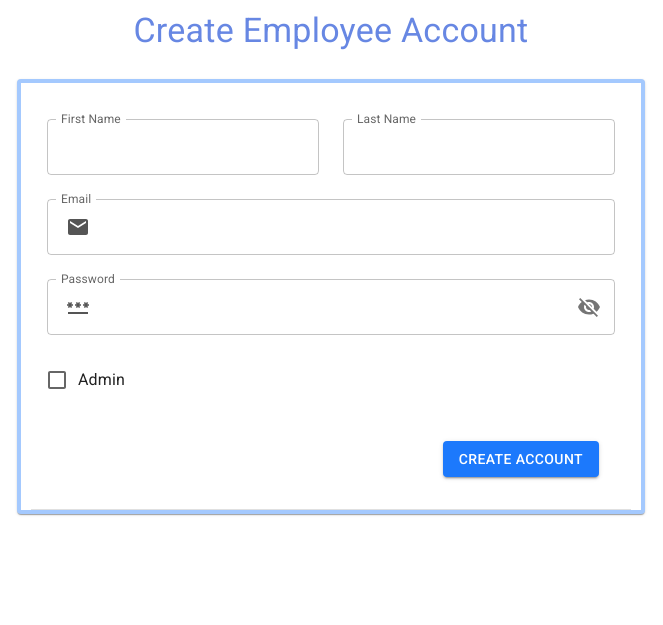
SignupForm › should show an error on stauts=400
This screenshot has width=663, height=625.
we type in the first name
Type "John" into the field labelled "First Name" at (188, 147), box 79,119 -> 297,175
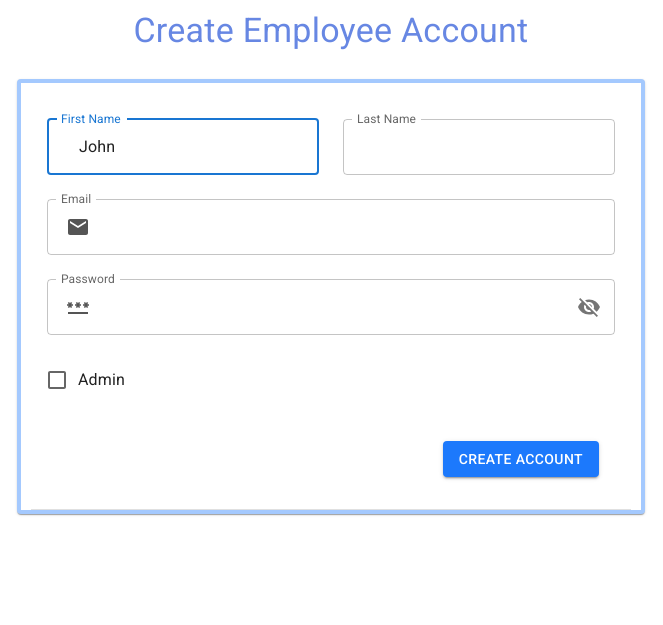
we type in the last name
Type "Doe" into the field labelled "Last Name" at (484, 147), box 375,119 -> 593,175
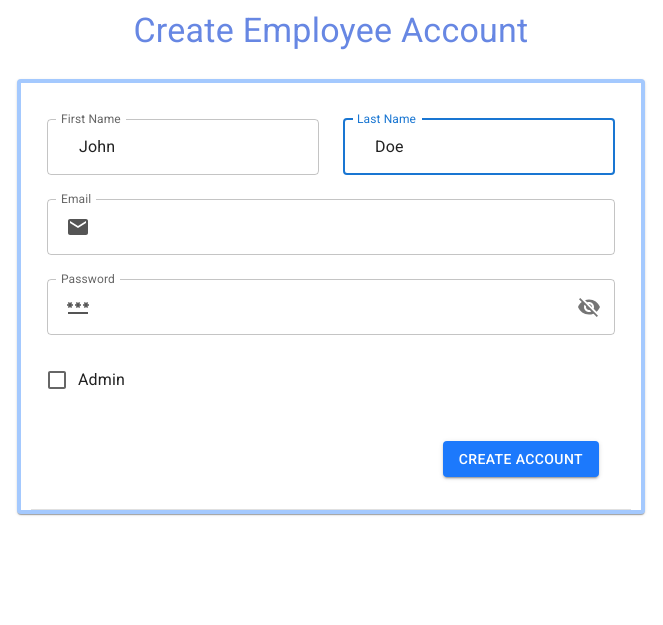
we type in the email
Type "john@doe.com" into the field labelled "Email" at (348, 227), box 103,199 -> 593,255
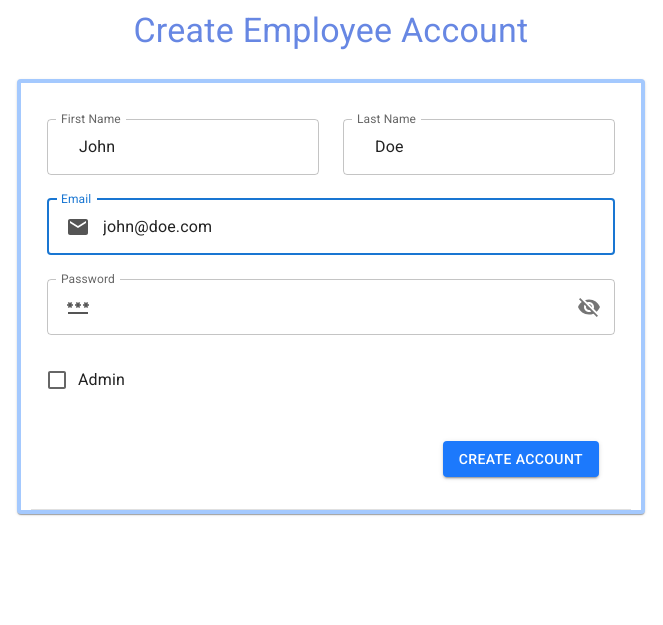
we type in the password
Type "not-john-doe" into the password field labelled "Password" at (336, 307), box 103,279 -> 569,335
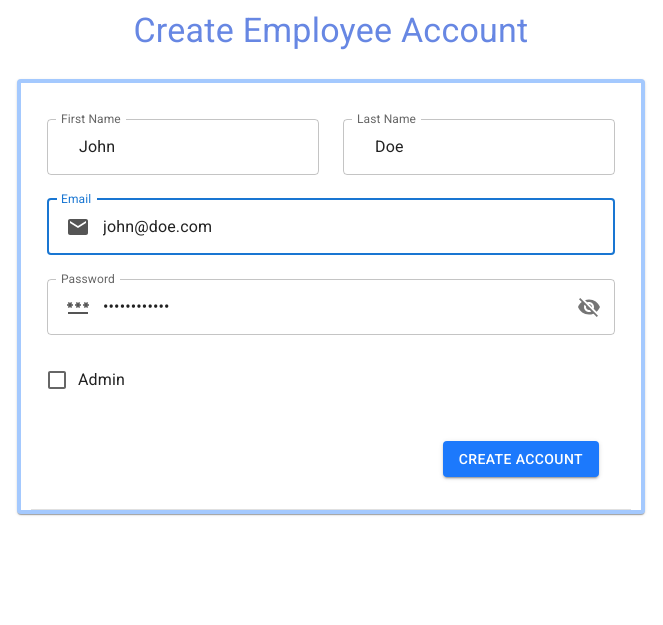
We click on the create account button
Click the button "Create account" at (521, 459), box 443,441 -> 599,477
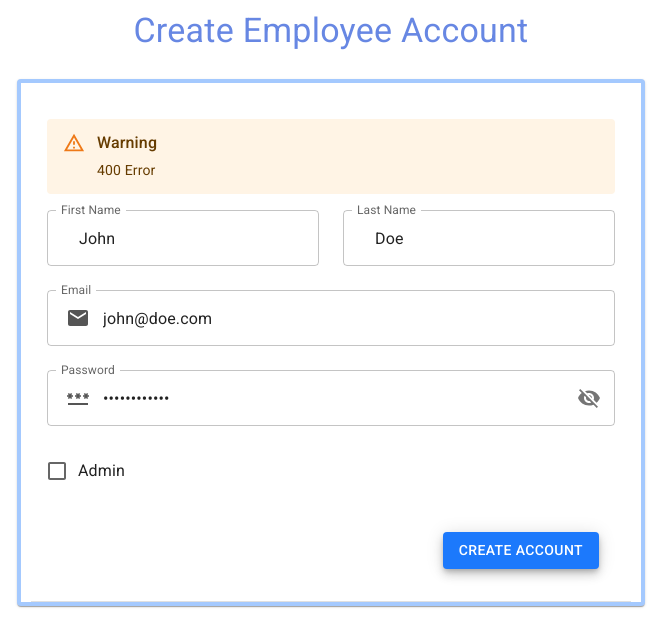
Now the text "400 Error" is shown, box 97,162 -> 156,178
